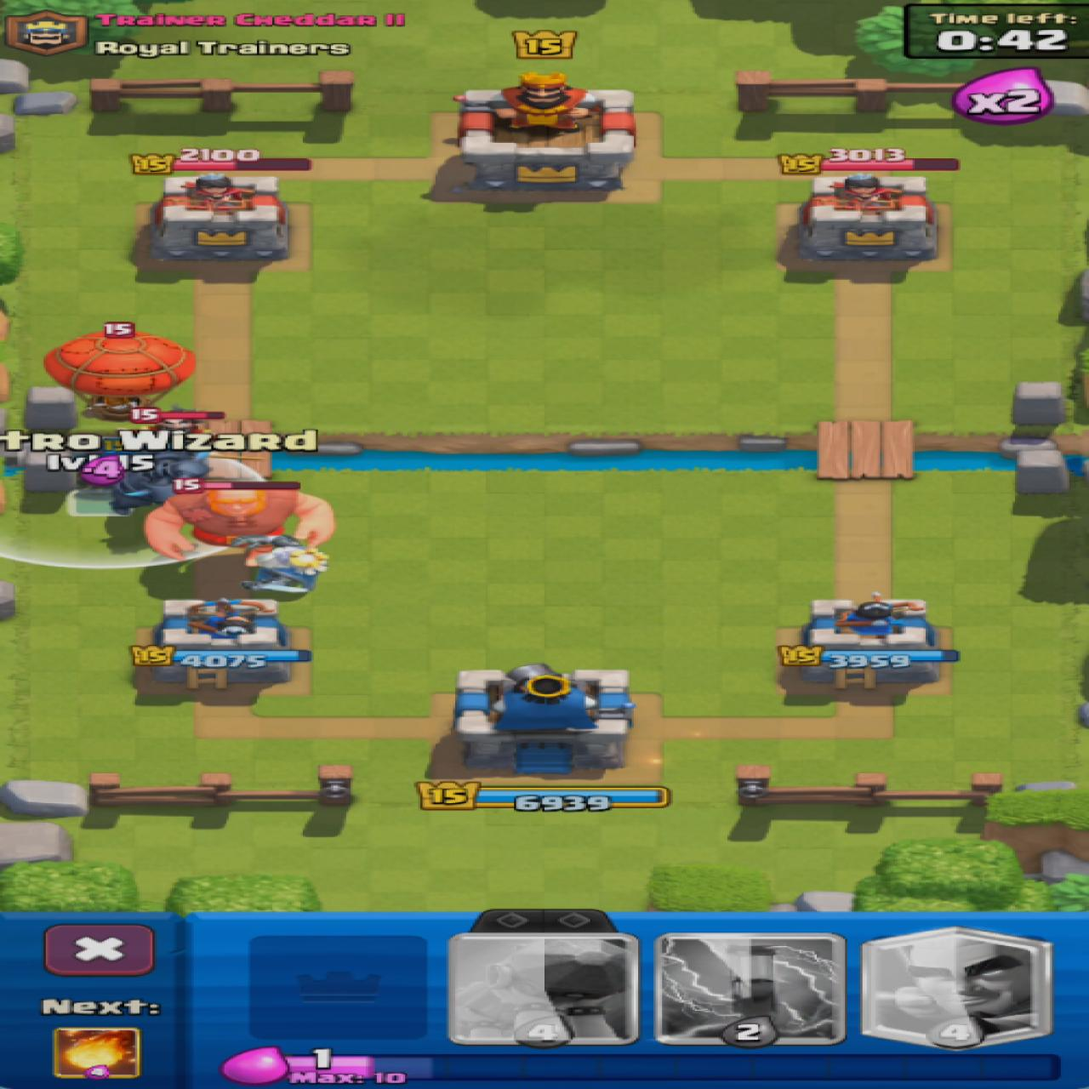Enemy-Balloon: (46, 323, 194, 420)
Enemy-ElectroWizard: (159, 420, 196, 433)
Enemy-Giant: (146, 488, 333, 555)
Enemy-KingTower: (457, 73, 634, 193)
Enemy-PrincessTower: (150, 172, 287, 260), (799, 173, 934, 262)
